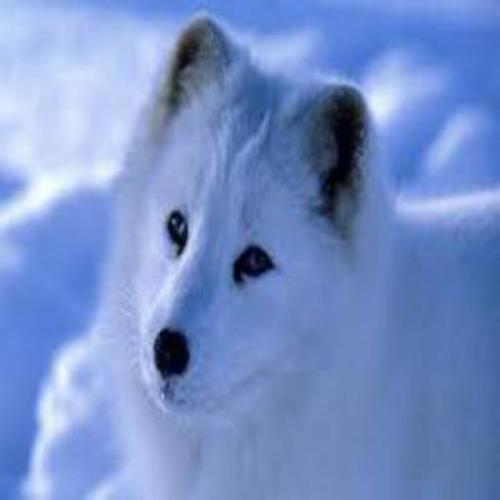arctic_fox-endangered: (108, 16, 500, 500)
